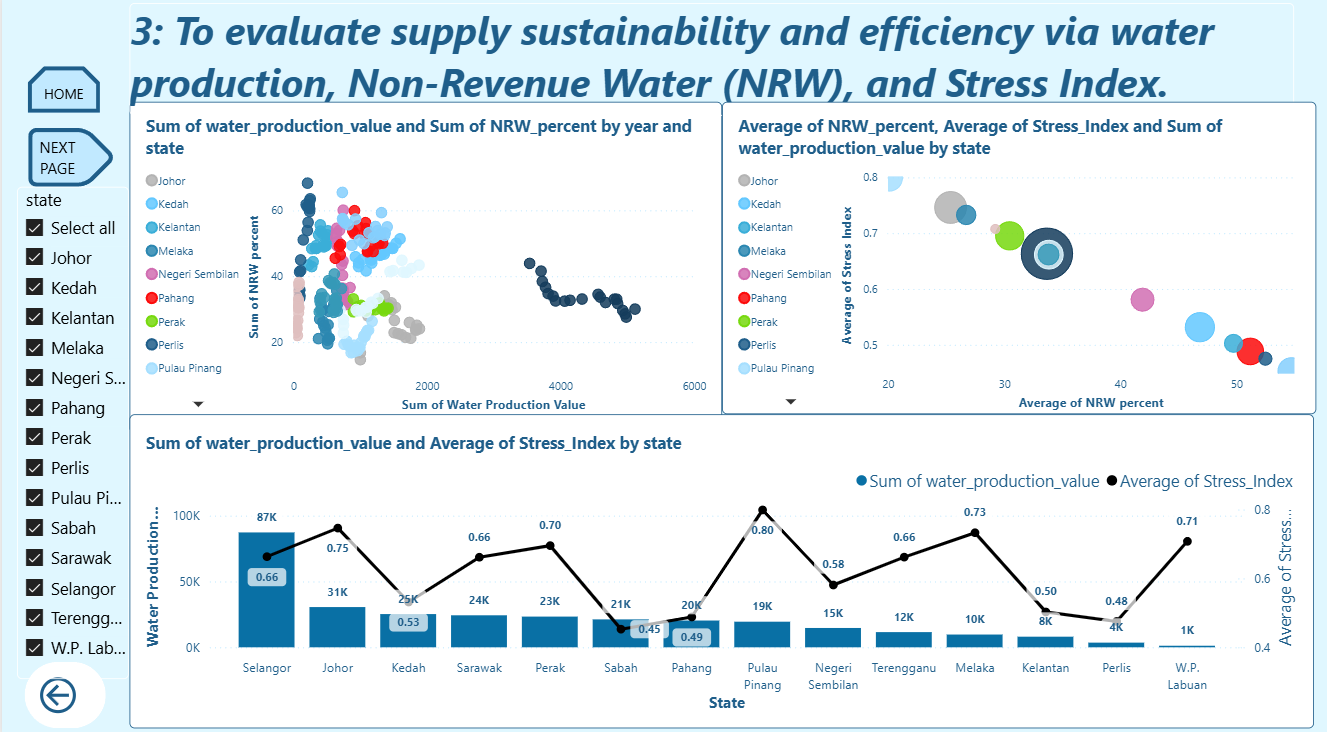

This screenshot's page, from the dashboard's own definition file:
{"tool":"powerbi","page":{"name":"OBJ 3","canvas":[1280,720],"ordinal":3},"visuals":[{"type":"scatterChart","fields":{"Category":["DATASET_WATER.year"],"X":["Sum(DATASET_WATER.water_production_value)"],"Y":["Sum(DATASET_WATER.NRW_percent)"],"Series":["DATASET_WATER.state"]},"box":[123.3,105,571.7,320],"z":0},{"type":"shape","box":[10,55,100,75],"z":1000},{"type":"actionButton","box":[25,130,85,56.7],"z":2000},{"type":"actionButton","box":[21.4,645.7,78.6,64.3],"z":3000},{"type":"textbox","box":[122.9,10,1124.3,108.6],"z":4000},{"type":"lineClusteredColumnComboChart","fields":{"Category":["DATASET_WATER.state"],"Y2":["Avg(DATASET_WATER.Stress_Index)"],"Y":["Sum(DATASET_WATER.water_production_value)"]},"box":[123.3,406.7,1143.3,303.3],"z":5000},{"type":"scatterChart","fields":{"X":["Avg(DATASET_WATER.NRW_percent)"],"Y":["Avg(DATASET_WATER.Stress_Index)"],"Series":["DATASET_WATER.state"],"Size":["Sum(DATASET_WATER.water_production_value)"]},"box":[695,105,573.3,301.7],"z":6000},{"type":"slicer","fields":{"Values":["DATASET_WATER.state"]},"box":[15,186.7,108.3,475],"z":7000}]}

Visuals, with their boxes in screenshot pixels (x1, y1, x2, y2), scaled from the page's 1280x720 canvas onto the 1327x732 screenshot:
scatterChart - DATASET_WATER.year x Sum(DATASET_WATER.water_production_value): detection(128, 107, 721, 432)
shape: detection(10, 56, 114, 132)
actionButton: detection(26, 132, 114, 190)
actionButton: detection(22, 656, 104, 722)
textbox: detection(127, 10, 1293, 121)
lineClusteredColumnComboChart - DATASET_WATER.state x Avg(DATASET_WATER.Stress_Index): detection(128, 413, 1313, 722)
scatterChart - Avg(DATASET_WATER.NRW_percent) x Avg(DATASET_WATER.Stress_Index): detection(721, 107, 1315, 413)
slicer - DATASET_WATER.state: detection(16, 190, 128, 673)
